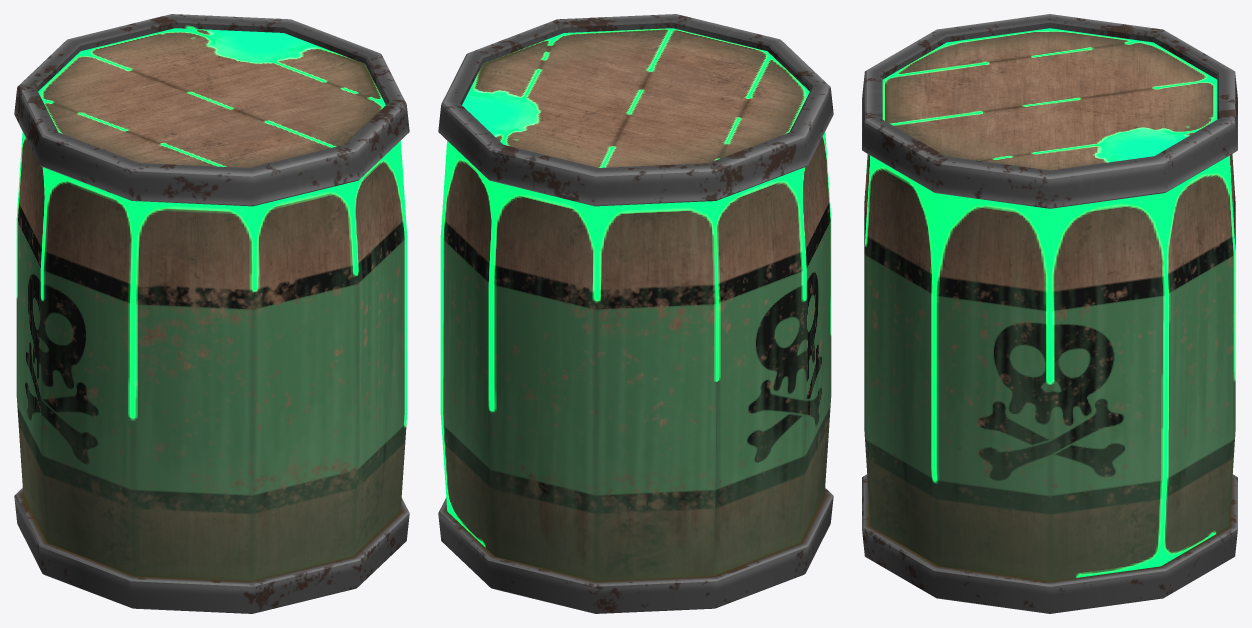
The model's file is poison_barrel_up.glb.
The picture shows the model from 3 angles, left to right: view 1: azimuth 30°, elevation 25°; view 2: azimuth 150°, elevation 25°; view 3: azimuth 270°, elevation 25°; orthographic projection.
Parts seen in each view (by area): view 1: Barrel; view 2: Barrel; view 3: Barrel.
Boxes of the visible parts, bbox=[...] form: Barrel: bbox=[14, 14, 409, 613]; Barrel: bbox=[438, 14, 833, 613]; Barrel: bbox=[862, 14, 1237, 613].
Bounding box in the file's own units: 1.78 × 2.17 × 1.69.
1 material, 1 textured.
